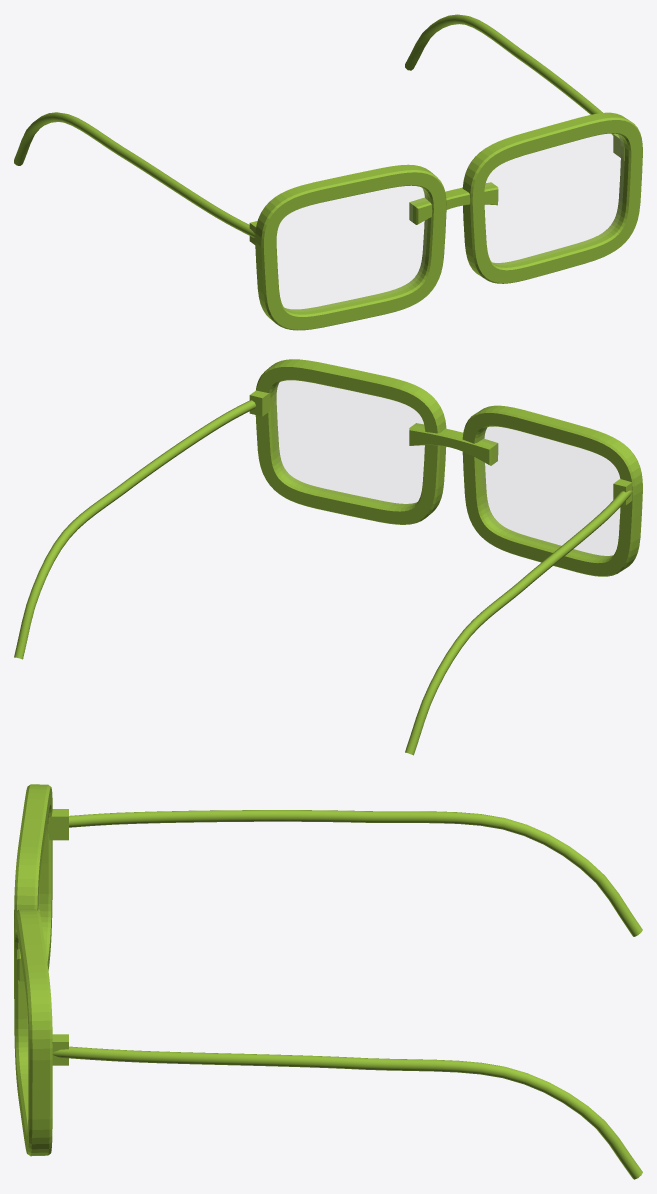
The model's file is BM-K02_Bolt_Lime.glb.
The picture shows the model from 3 angles, top to bottom: view 1: azimuth 30°, elevation 25°; view 2: azimuth 150°, elevation 25°; view 3: azimuth 270°, elevation 25°; orthographic projection. The views are drawn at different scales.
Parts seen in each view (by area): view 1: Bolt_Lime_Acetate, Bolt_Lime_Lenses; view 2: Bolt_Lime_Acetate, Bolt_Lime_Lenses; view 3: Bolt_Lime_Acetate.
Part boxes in pixels (x1,y1,x2,y2): Bolt_Lime_Acetate: (14, 14, 642, 330); Bolt_Lime_Lenses: (277, 134, 623, 311); Bolt_Lime_Acetate: (14, 359, 642, 755); Bolt_Lime_Lenses: (274, 381, 619, 557); Bolt_Lime_Acetate: (14, 784, 642, 1179).
Bounding box in the file's own units: 0.1251 × 0.0411 × 0.131.
